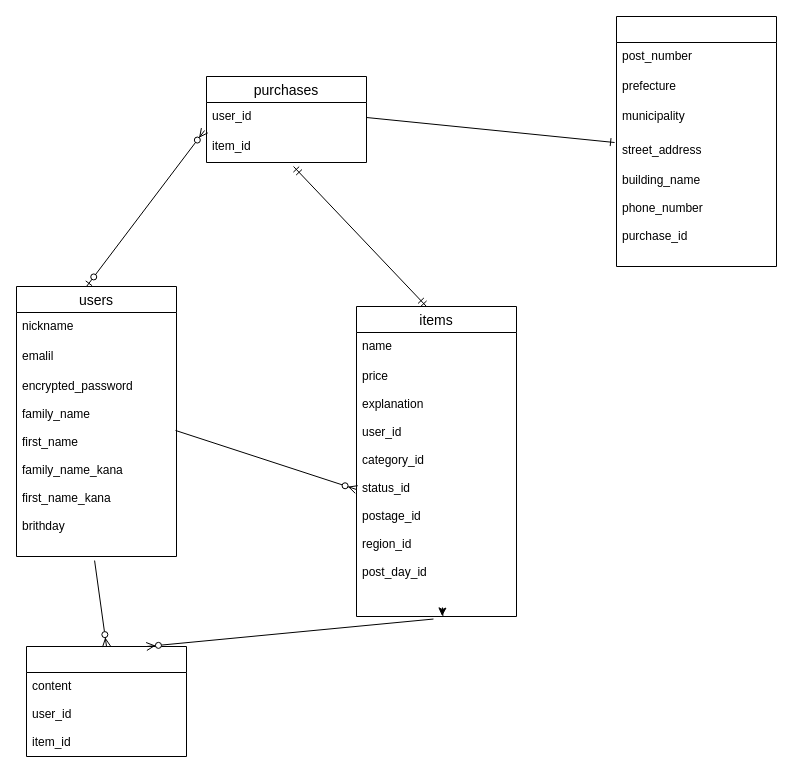
Image size: 793x773. Some labels were removed from this diagram. Here are the shapes that lost their labels. From the top down, the box of each, then its label:
(616, 16, 776, 266): destinations
(26, 646, 186, 756): comments
